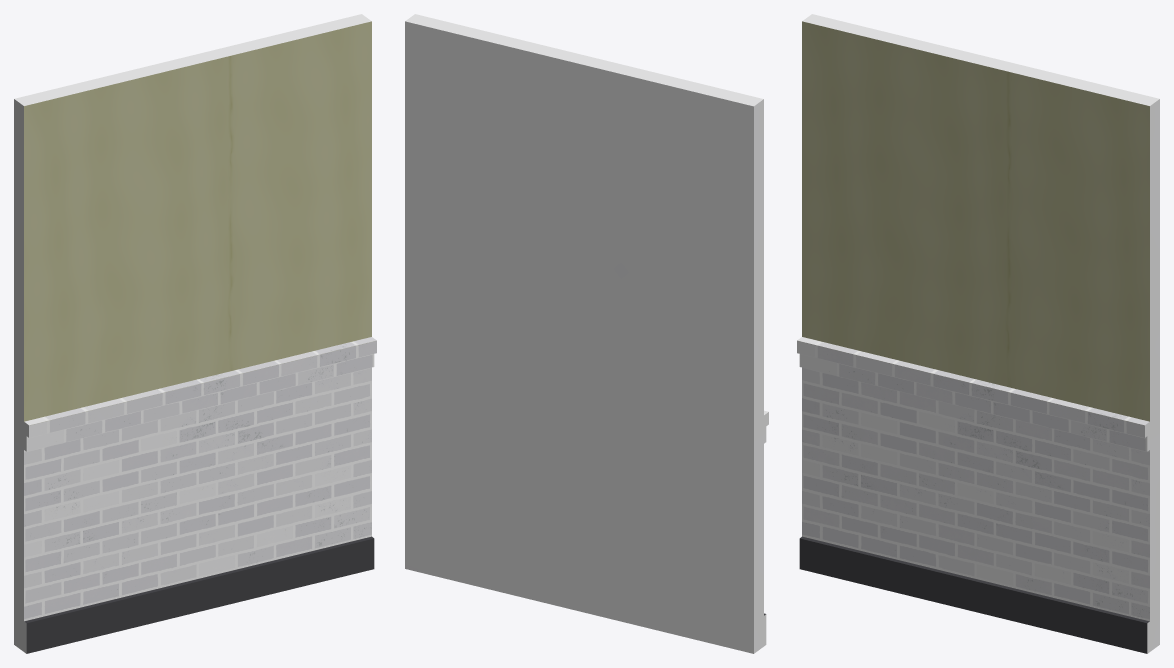
Rendered from SM_Buildings_Wall_2x3_01.fbx.
3 renders of one model, left to right at view 1: azimuth 30°, elevation 25°; view 2: azimuth 150°, elevation 25°; view 3: azimuth 330°, elevation 25°, orthographic.
Visible parts, largest first — view 1: SM_Buildings_Wall_2x3_01; view 2: SM_Buildings_Wall_2x3_01; view 3: SM_Buildings_Wall_2x3_01.
Boxes of the visible parts, box(x1,y1,x2,y2) form: SM_Buildings_Wall_2x3_01: box(14, 14, 376, 653); SM_Buildings_Wall_2x3_01: box(405, 14, 768, 653); SM_Buildings_Wall_2x3_01: box(797, 14, 1159, 653).
Bounding box in the file's own units: 200 × 300 × 15.
Materials: 1 (1 with a texture image).
